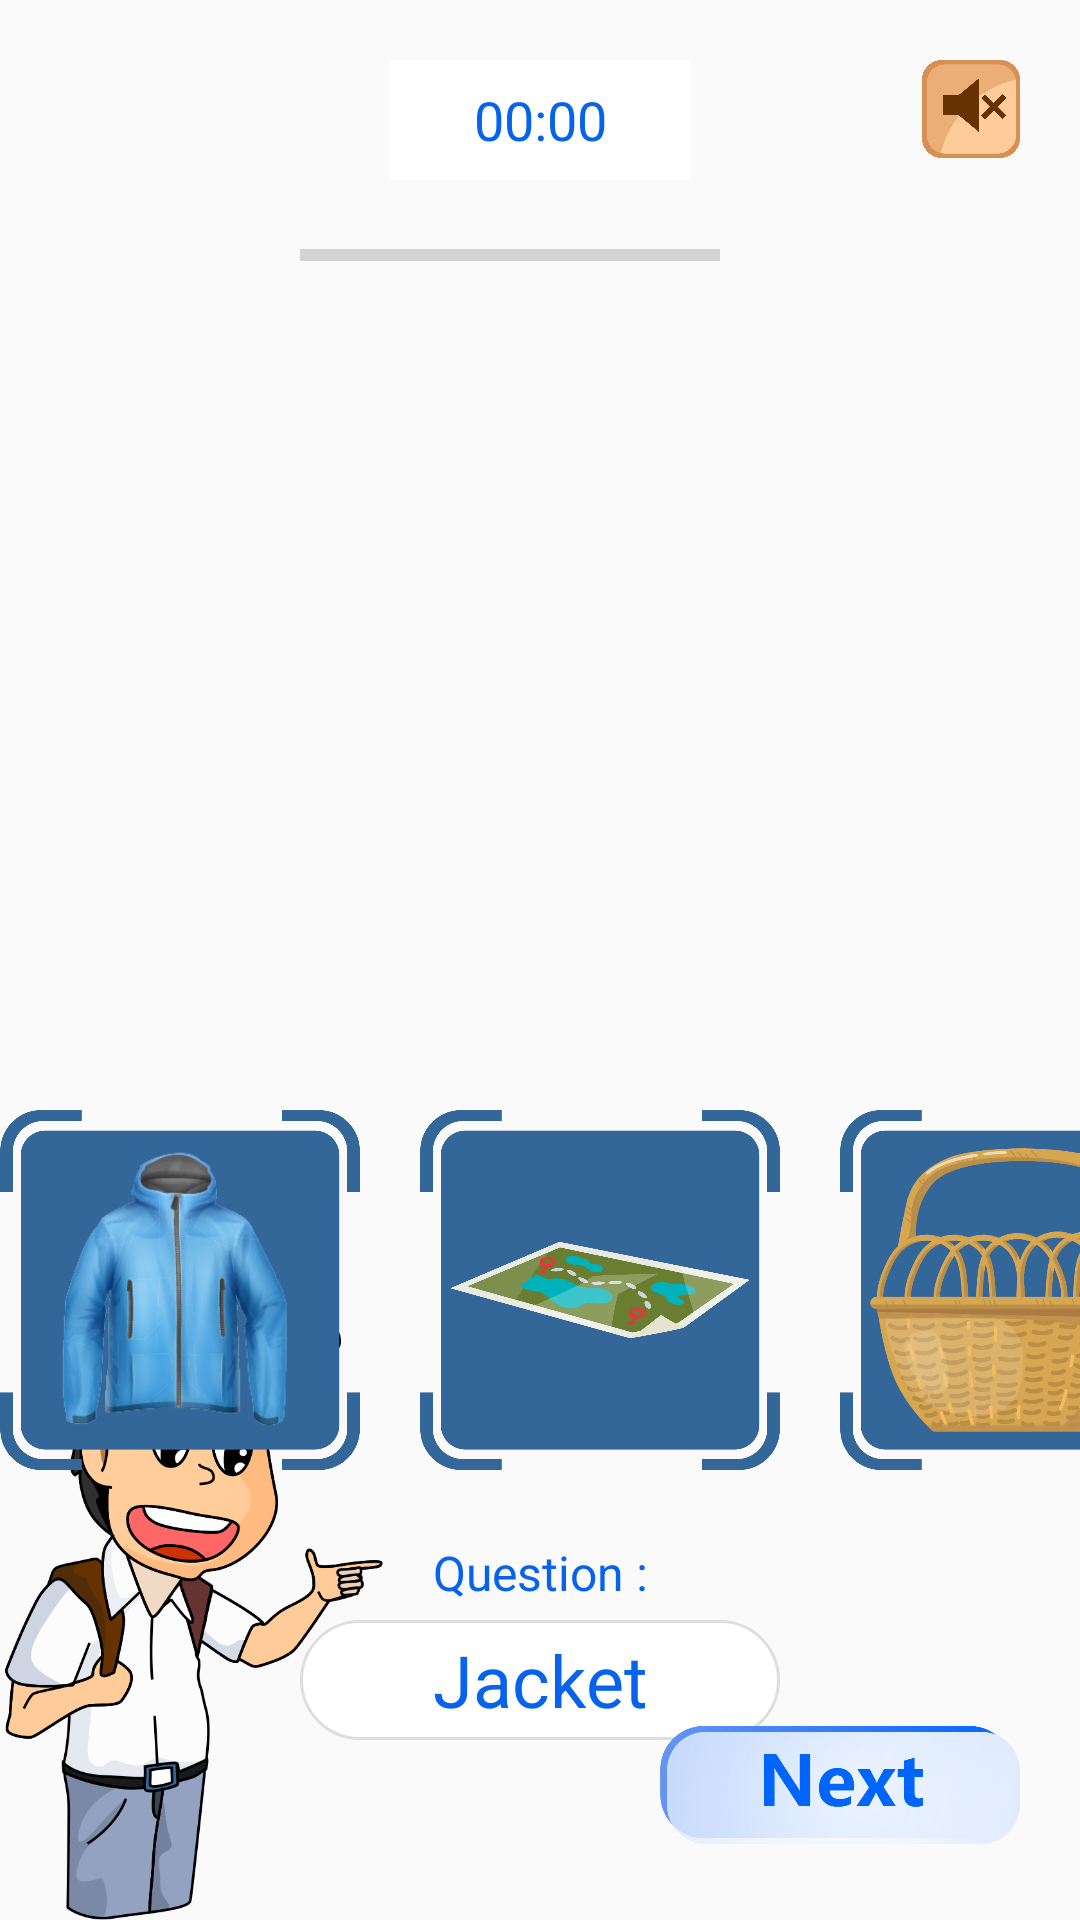

Icons on this 1080px x 1920px Android screen, each with the point to tap as (x,y):
map: (600,1290)
sound of: (971,109)
